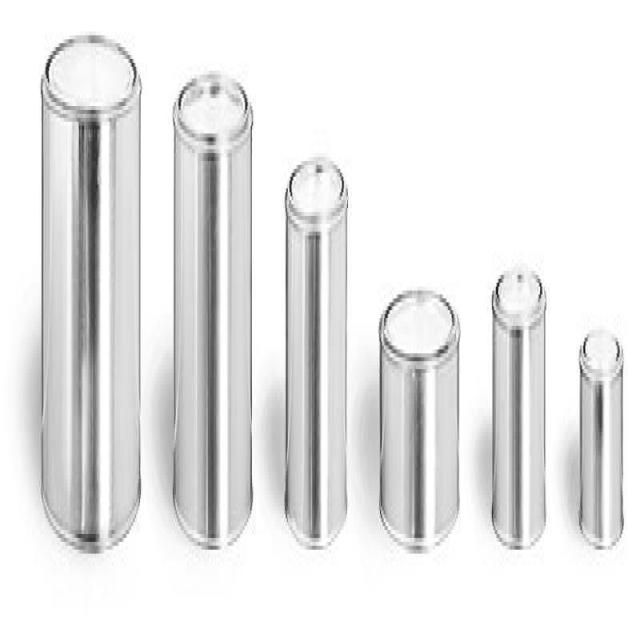metel: (41, 82, 144, 549), (176, 119, 257, 535), (290, 184, 350, 521), (378, 313, 461, 545), (495, 284, 550, 559), (582, 343, 623, 543)
